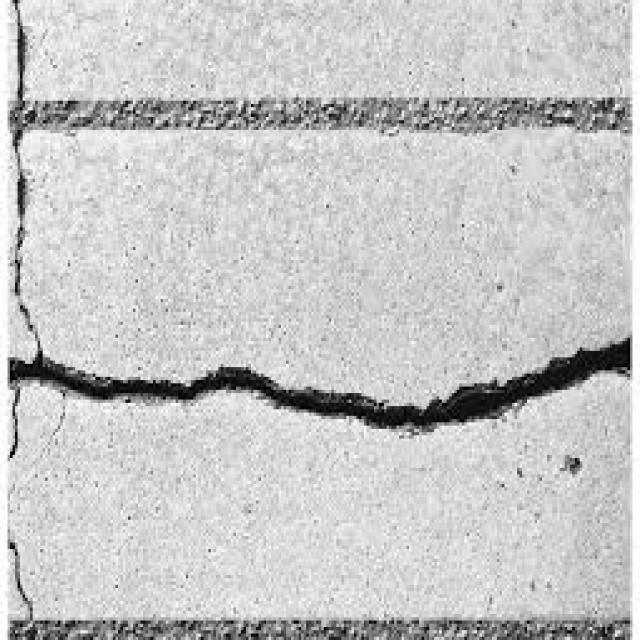Crack: (5, 328, 627, 439), (8, 0, 40, 354), (2, 536, 32, 617), (5, 387, 23, 458)
